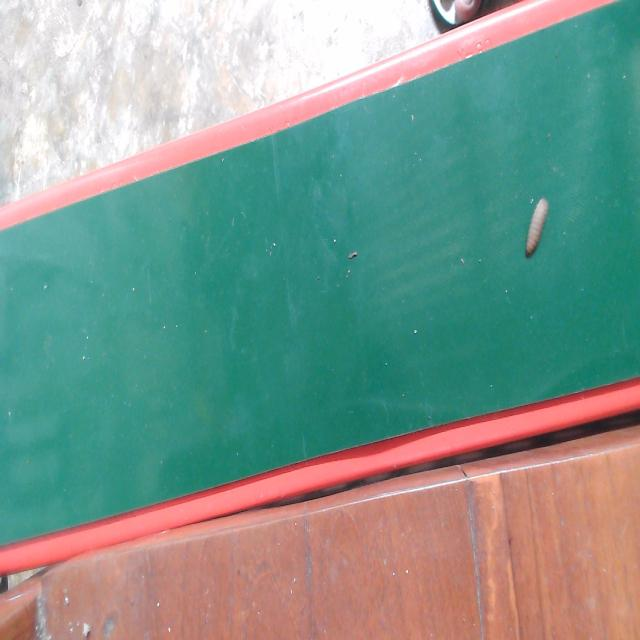Maggot: (522, 197, 550, 261)
